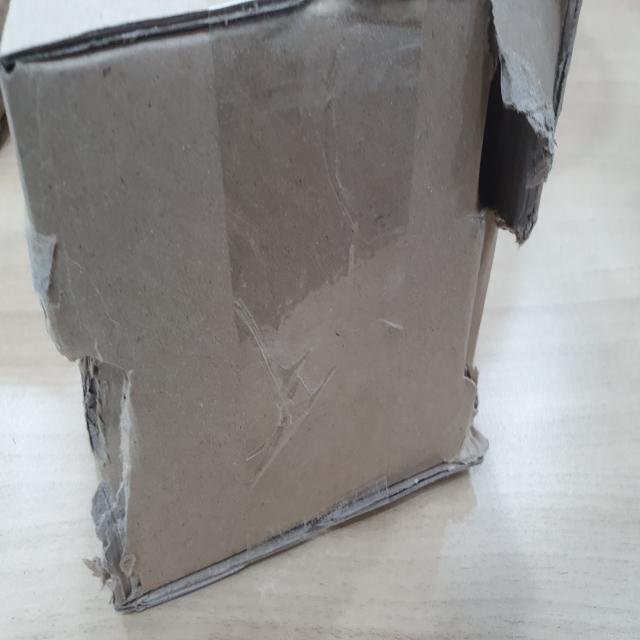hole: (475, 6, 553, 230), (74, 336, 143, 544)
